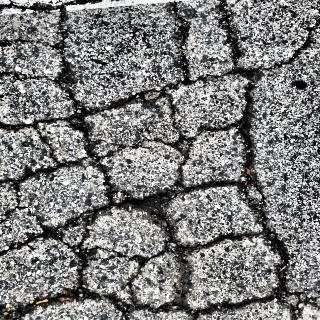alligator-crack: (1, 175, 300, 320)
